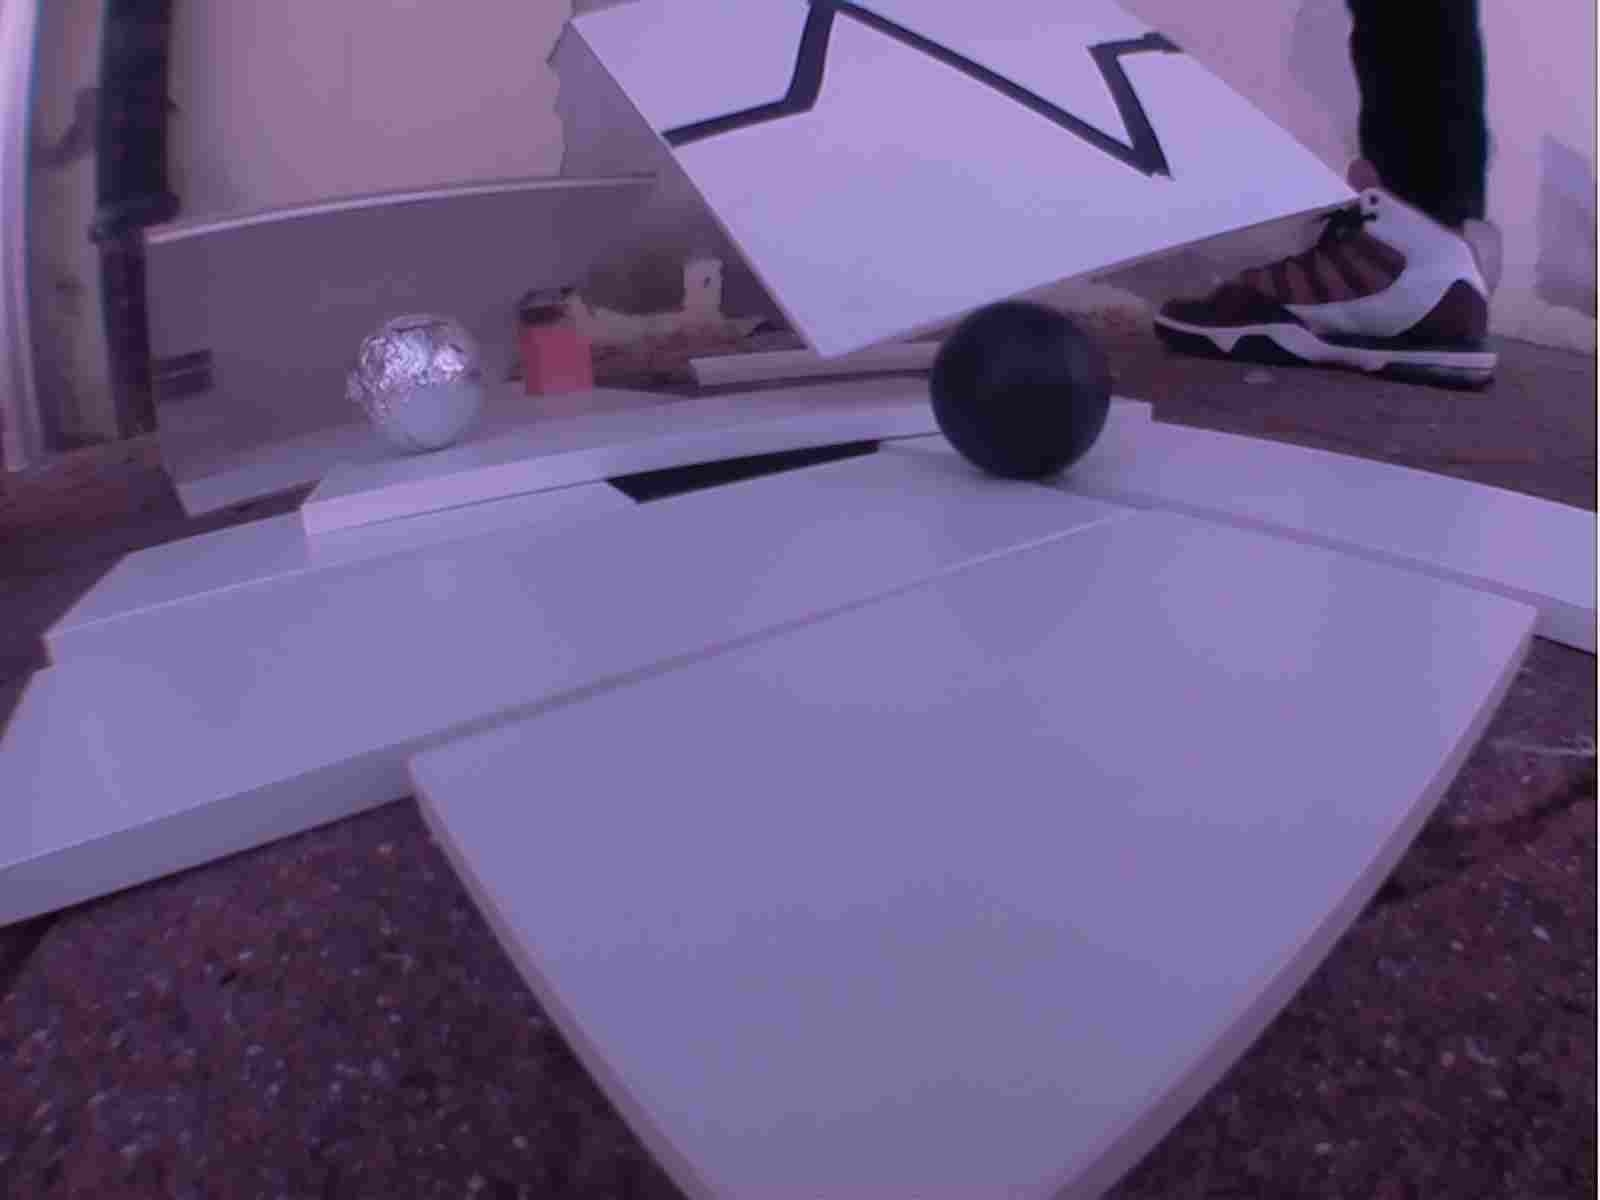bianca: (340, 310, 488, 459)
nera: (929, 303, 1111, 482)
